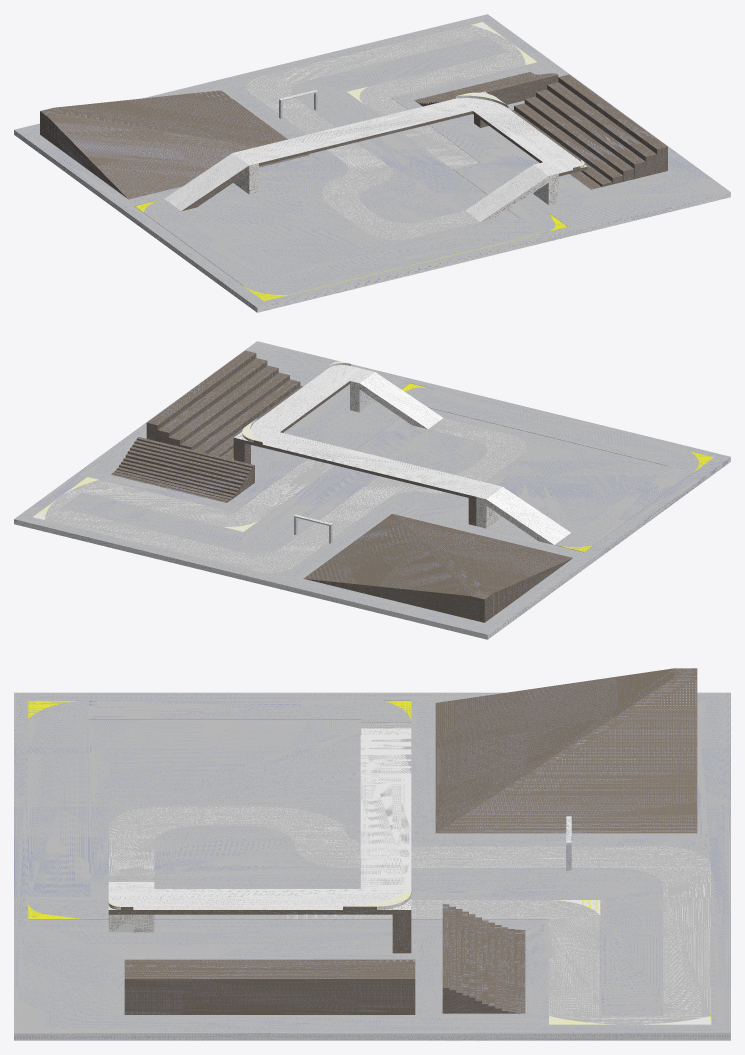
The picture shows the model from 3 angles, top to bottom: view 1: azimuth 30°, elevation 25°; view 2: azimuth 150°, elevation 25°; view 3: azimuth 270°, elevation 25°; orthographic projection. The views are drawn at different scales.
Visible parts, largest first — view 1: SketchUp (×11); view 2: SketchUp (×10); view 3: SketchUp (×11).
Boxes of the visible parts, x1,y1,x2,y2 form: SketchUp (×11): [14, 14, 730, 312]; SketchUp (×10): [14, 341, 730, 639]; SketchUp (×11): [14, 668, 730, 1040].
Bounding box in the file's own units: 4326 × 3847 × 320.
